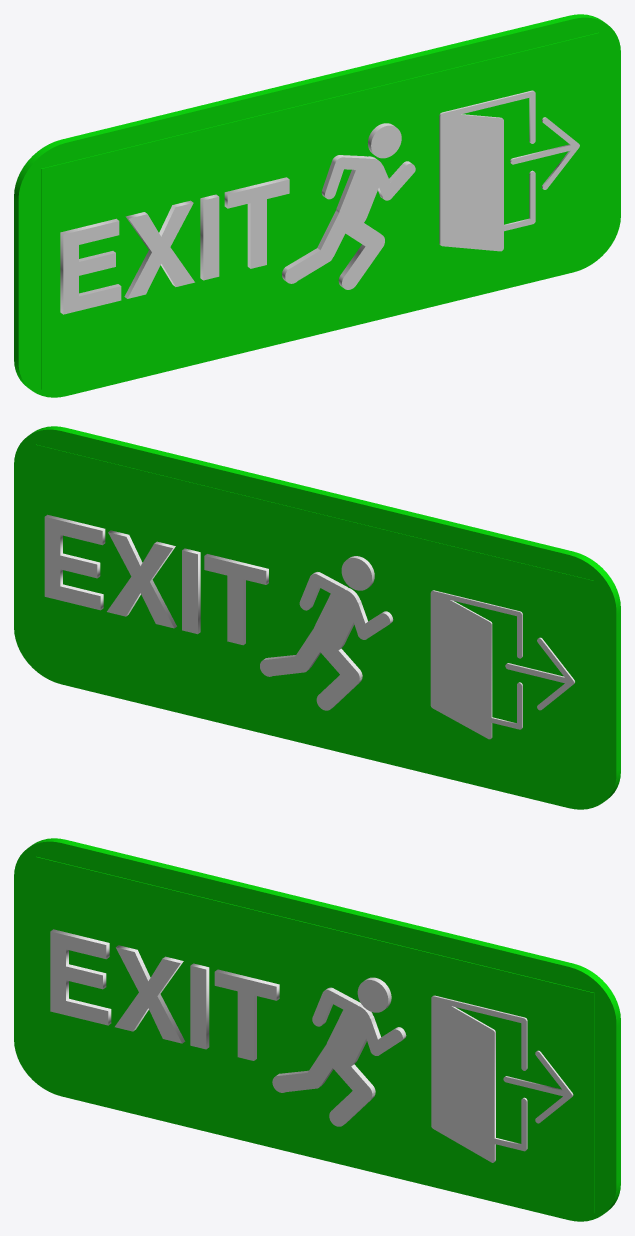
The model's file is ExitSign.fbx.
3 renders of one model, top to bottom at view 1: azimuth 30°, elevation 25°; view 2: azimuth 150°, elevation 25°; view 3: azimuth 330°, elevation 25°, orthographic.
Visible parts, largest first — view 1: Cube, Curve.004, Curve.003, Curve, Curve.005, Curve.006, Curve.008, Curve.007, Curve.002, Curve.001; view 2: Cube, Curve.004, Curve.012, Curve.010, Curve.014, Curve.015, Curve.017, Curve.016, Curve.011, Curve.013; view 3: Cube, Curve.004, Curve.003, Curve, Curve.005, Curve.006, Curve.008, Curve.007, Curve.002, Curve.001.
Boxes of the visible parts, x1,y1,x2,y2 form: Cube: (41, 32, 598, 389); Curve.004: (14, 14, 620, 397); Curve.003: (439, 90, 535, 251); Curve: (282, 155, 415, 289); Curve.005: (60, 218, 121, 314); Curve.006: (124, 200, 194, 298); Curve.008: (224, 177, 289, 268); Curve.007: (200, 194, 219, 280); Curve.002: (510, 117, 579, 189); Curve.001: (367, 123, 401, 158); Cube: (36, 444, 593, 801); Curve.004: (14, 426, 620, 809); Curve.012: (430, 590, 522, 739); Curve.010: (260, 572, 393, 710); Curve.014: (44, 514, 105, 610); Curve.015: (107, 530, 176, 628); Curve.017: (204, 554, 268, 645); Curve.016: (182, 548, 200, 634); Curve.011: (505, 637, 574, 710); Curve.013: (341, 556, 374, 590); Cube: (36, 856, 594, 1213); Curve.004: (14, 838, 620, 1221); Curve.003: (431, 995, 527, 1162); Curve: (272, 987, 406, 1126); Curve.005: (50, 929, 111, 1025); Curve.006: (115, 945, 185, 1043); Curve.008: (214, 969, 279, 1060); Curve.007: (190, 963, 209, 1049); Curve.002: (503, 1050, 573, 1123); Curve.001: (357, 977, 391, 1012).
Size of the model in its own units: 742 by 298 by 25.62.
